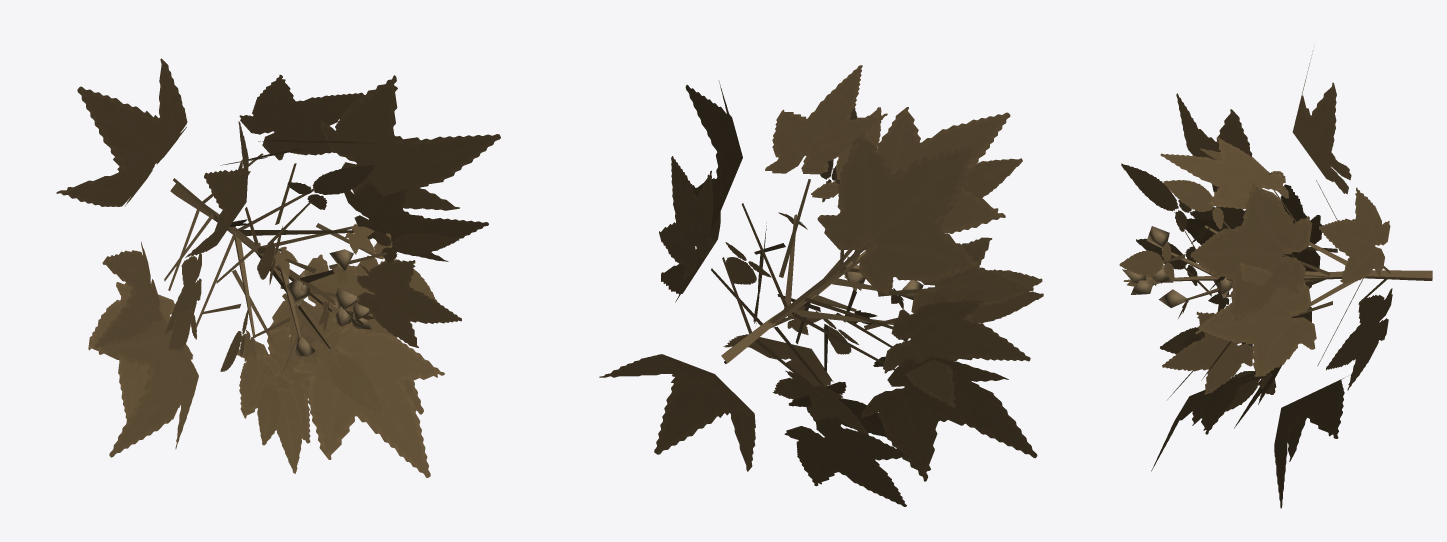
The model's file is p_male_afghan_preflower_c3_cards.obj.
3 renders of one model, left to right at view 1: azimuth 30°, elevation 25°; view 2: azimuth 150°, elevation 25°; view 3: azimuth 270°, elevation 25°, orthographic. The views are drawn at different scales.
Bounding box in the file's own units: 1.31 × 1.36 × 0.928.
1 material, 1 textured.
